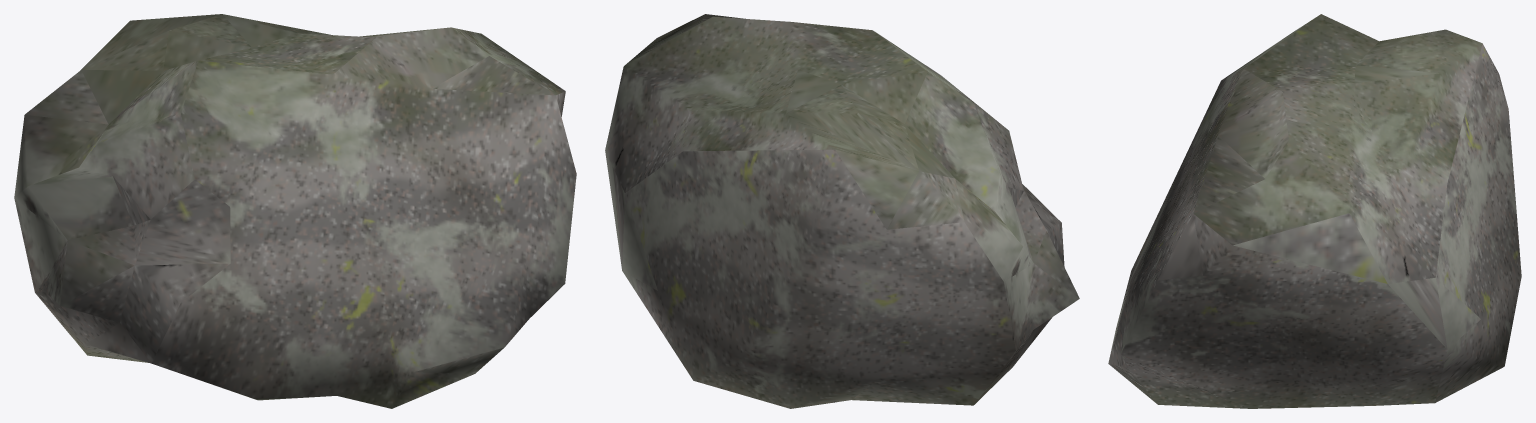
The model's file is boulder_150_LOD2.fbx.
3 views of the same model, side by side, from view 1: azimuth 30°, elevation 25°; view 2: azimuth 150°, elevation 25°; view 3: azimuth 270°, elevation 25° (orthographic). The views are drawn at different scales.
Visible parts, largest first — view 1: Boulder_150_LOD2; view 2: Boulder_150_LOD2; view 3: Boulder_150_LOD2.
Boxes of the visible parts, bbox=[...] form: Boulder_150_LOD2: bbox=[14, 14, 576, 408]; Boulder_150_LOD2: bbox=[605, 14, 1079, 408]; Boulder_150_LOD2: bbox=[1108, 14, 1521, 408].
Bounding box in the file's own units: 1.3 × 0.8247 × 1.
1 material, 1 textured.
